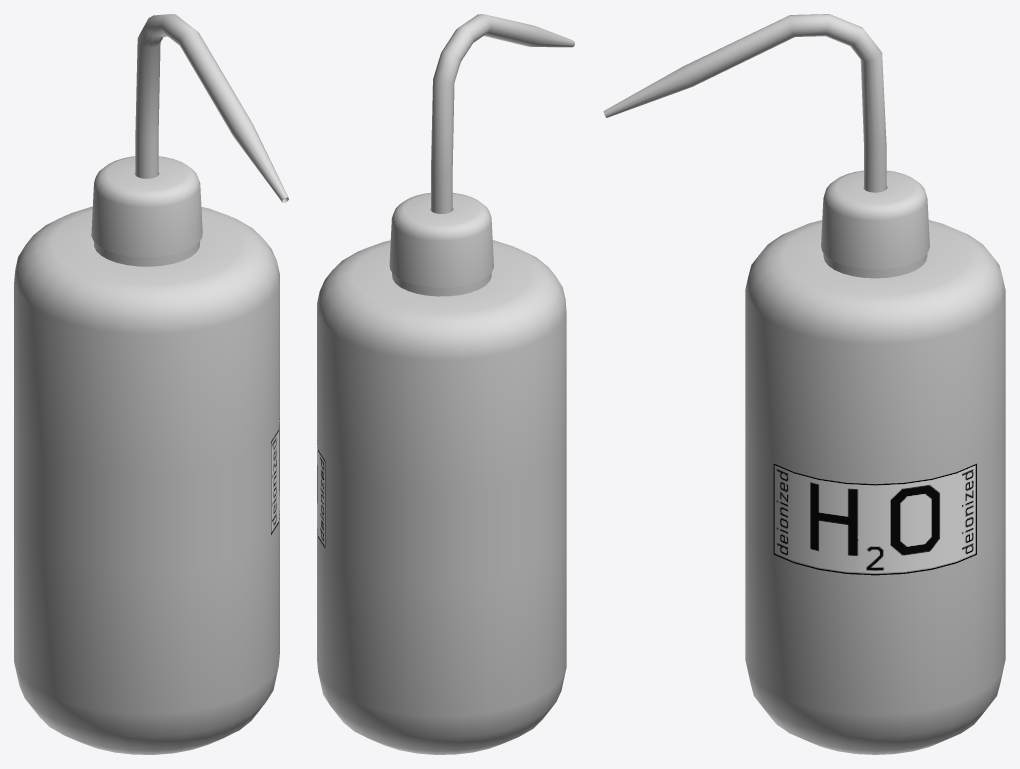
File: WaterDe.fbx
3 views of the same model, side by side, from view 1: azimuth 30°, elevation 25°; view 2: azimuth 150°, elevation 25°; view 3: azimuth 270°, elevation 25° (orthographic). The views are drawn at different scales.
Parts seen in each view (by area): view 1: Circle, Circle.001, Plane; view 2: Circle, Circle.001, Plane; view 3: Circle, Plane, Circle.001.
Boxes of the visible parts, <box> form: Circle: <box>14,206,279,754</box>; Circle.001: <box>91,156,202,257</box>; Plane: <box>135,14,288,202</box>; Circle: <box>317,240,566,754</box>; Circle.001: <box>389,192,493,287</box>; Plane: <box>431,14,574,213</box>; Circle: <box>745,220,1005,754</box>; Plane: <box>603,14,886,192</box>; Circle.001: <box>821,170,929,269</box>.
Size of the model in its own units: 68.81 by 207 by 106.
Materials: 3 (1 with a texture image).
